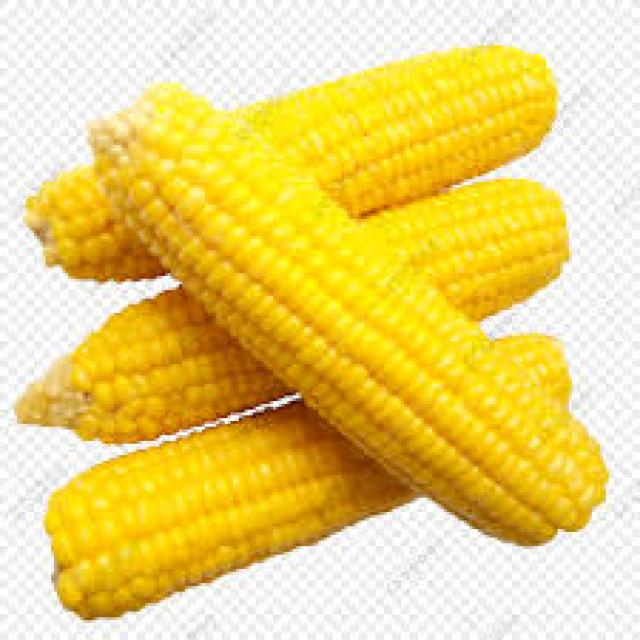corn: (83, 73, 618, 546), (4, 169, 582, 446), (37, 333, 575, 630), (32, 24, 562, 283)
